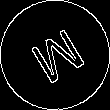M_SE: (22, 21, 88, 89)
